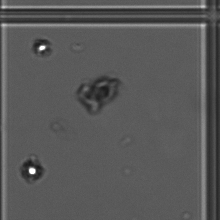Dead Cell: (82, 71, 126, 114)
Living Cell: (17, 154, 49, 186), (29, 35, 55, 57)
